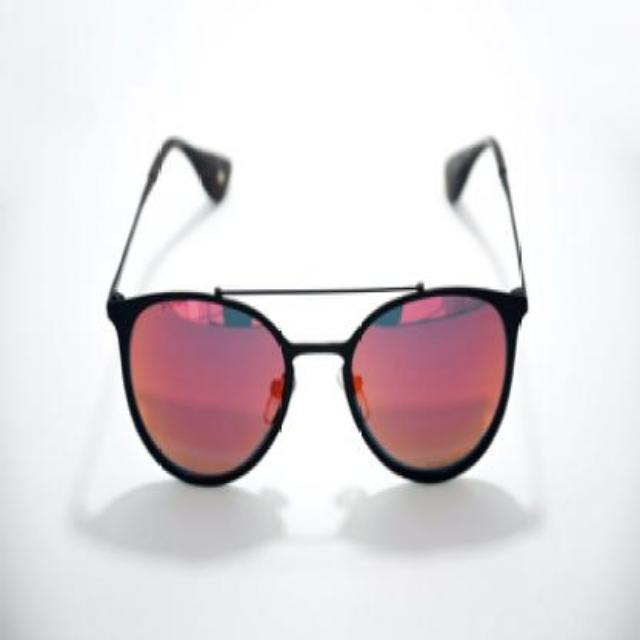sunglasses: (104, 130, 528, 486)
